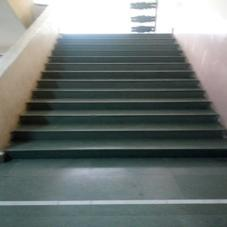Bench: (49, 30, 190, 155)
